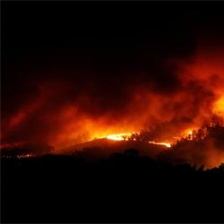fire: (100, 129, 182, 153)
smoke: (74, 61, 215, 114)
